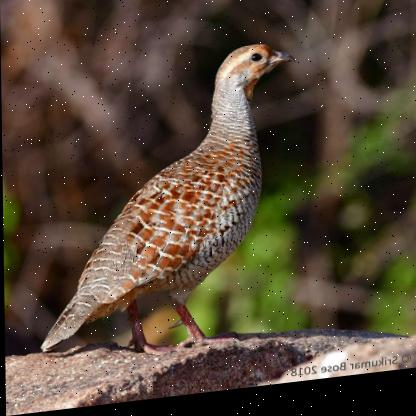Burung: (37, 46, 299, 370)
